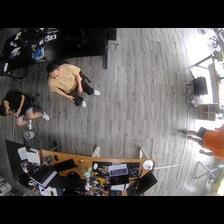normal: (44, 64, 100, 108), (178, 120, 224, 162)
